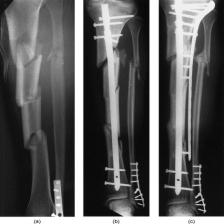segmental-fracture: (0, 0, 219, 214)
